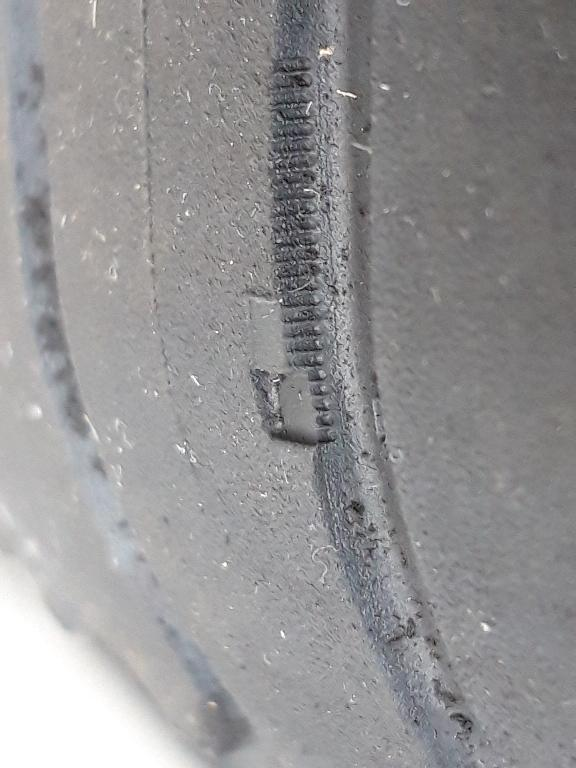temoin:25: (235, 280, 358, 462)
